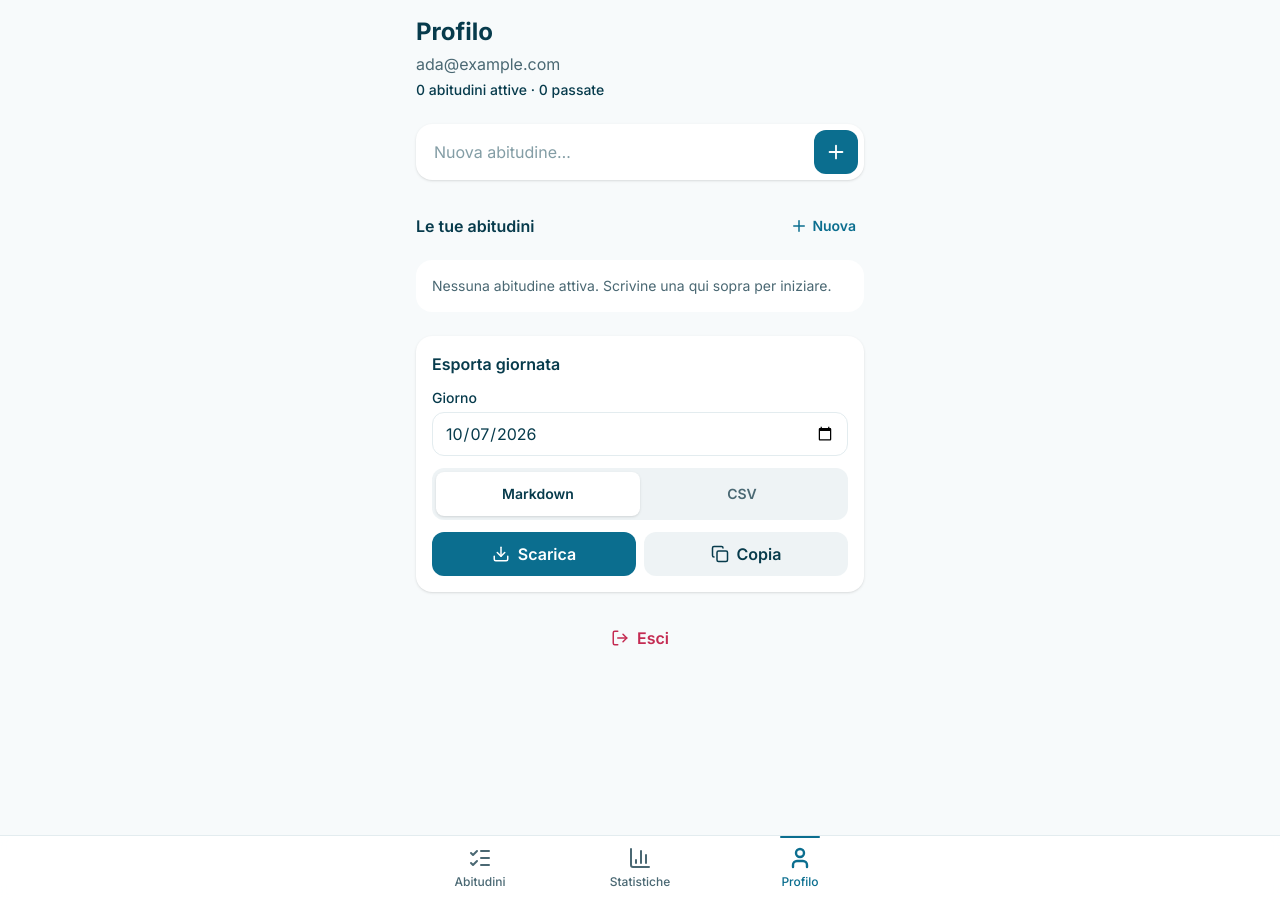
AppRoutes › logout dal profilo torna all’accesso
The image size is (1280, 900).
Step 1. Click the button "Esci" → (640, 638), box [416,616,864,660]
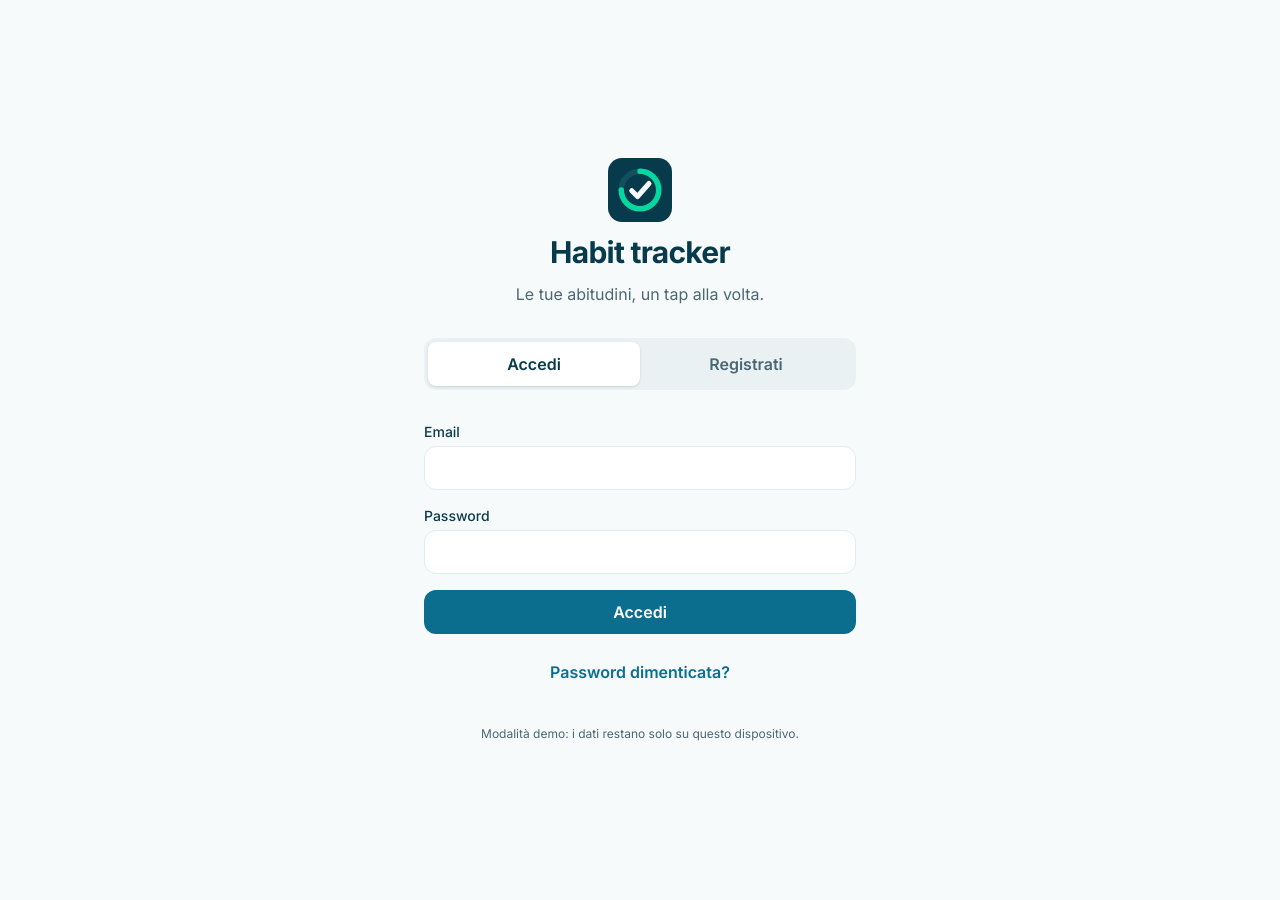
Expected: the tab "Accedi" is shown, [428,342,640,386]
